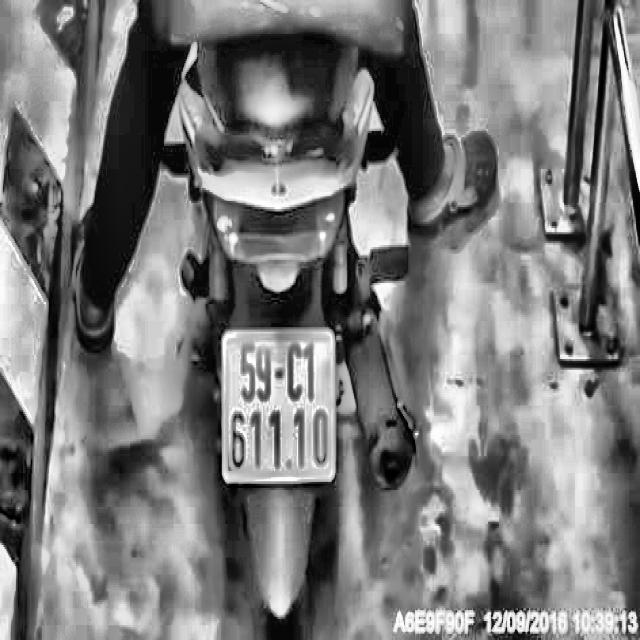plate: (217, 324, 339, 489)
